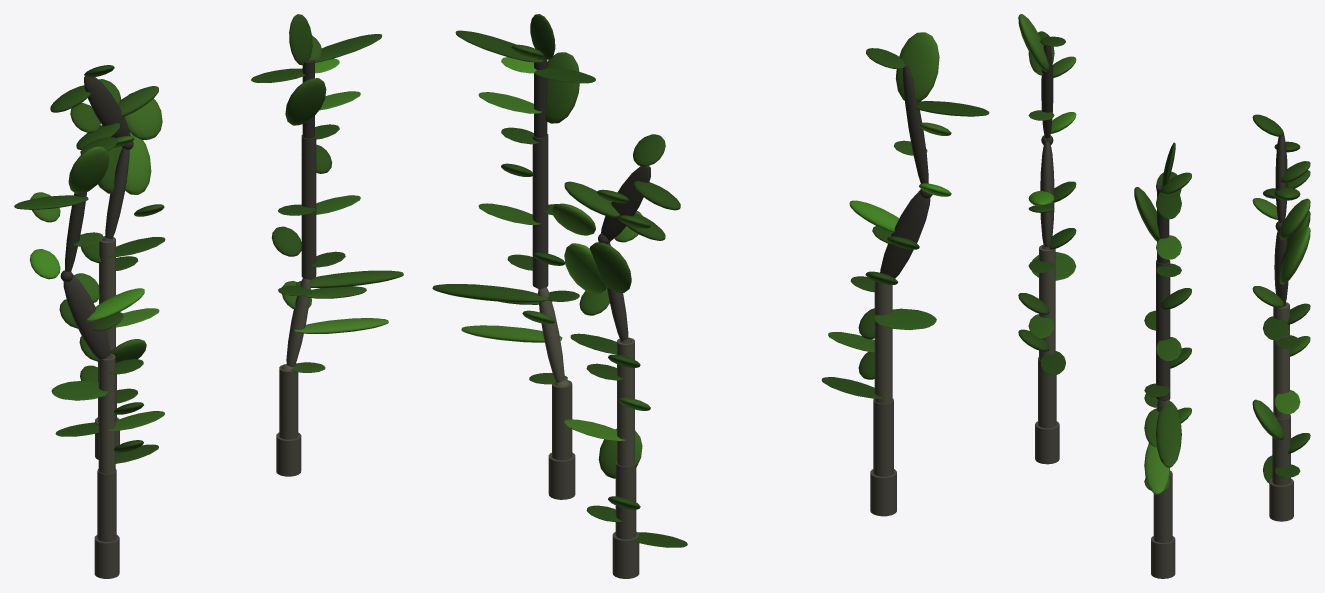
The model's file is CMU3DStalkyBush01.glb.
The picture shows the model from 3 angles, left to right: view 1: azimuth 30°, elevation 25°; view 2: azimuth 150°, elevation 25°; view 3: azimuth 270°, elevation 25°; orthographic projection. The views are drawn at different scales.
Parts seen in each view (by area): view 1: visible stem 2 section 2, visible stem 0 section 1, visible stem 0 section 2, visible stem 2 section 0, visible stem 0 section 0, source leaf patch 18, source leaf patch 12, visible stem 1 section 3, visible stem 1 section 1, source leaf patch 49, source leaf patch 8, visible stem 1 section 2 (+24 smaller); view 2: visible stem 2 section 2, visible stem 0 section 1, source leaf patch 12, visible stem 1 section 1, visible stem 0 section 2, source leaf patch 18, visible stem 0 section 0, visible stem 2 section 0, visible stem 0 section 3, source leaf patch 49, visible stem 1 section 0, source leaf patch 7 (+23 smaller); view 3: visible stem 2 section 2, source leaf patch 49, visible stem 1 section 1, visible stem 0 section 1, visible stem 2 section 0, visible stem 0 section 0, visible stem 0 section 2, rounded root base 1, visible stem 1 section 0, rounded root base 0, rounded root base 2, source leaf patch 52 (+23 smaller).
Boxes of the visible parts, x1=… form: visible stem 2 section 2: x1=301, y1=134, x2=316, y2=278; visible stem 0 section 1: x1=98, y1=353, x2=115, y2=473; visible stem 0 section 2: x1=63, y1=274, x2=110, y2=359; visible stem 2 section 0: x1=279, y1=364, x2=298, y2=439; visible stem 0 section 0: x1=97, y1=469, x2=116, y2=541; source leaf patch 18: x1=285, y1=78, x2=326, y2=125; source leaf patch 12: x1=68, y1=146, x2=109, y2=193; visible stem 1 section 3: x1=84, y1=76, x2=130, y2=137; visible stem 1 section 1: x1=99, y1=236, x2=115, y2=351; source leaf patch 49: x1=296, y1=270, x2=403, y2=287; source leaf patch 8: x1=125, y1=132, x2=151, y2=194; visible stem 1 section 2: x1=105, y1=147, x2=129, y2=238; visible stem 2 section 2: x1=532, y1=134, x2=548, y2=288; visible stem 0 section 1: x1=874, y1=281, x2=892, y2=403; source leaf patch 12: x1=895, y1=32, x2=939, y2=102; visible stem 1 section 1: x1=617, y1=337, x2=634, y2=466; visible stem 0 section 2: x1=880, y1=190, x2=930, y2=278; source leaf patch 18: x1=545, y1=52, x2=579, y2=123; visible stem 0 section 0: x1=873, y1=398, x2=893, y2=476; visible stem 2 section 0: x1=552, y1=380, x2=572, y2=460; visible stem 0 section 3: x1=903, y1=61, x2=928, y2=183; source leaf patch 49: x1=432, y1=284, x2=547, y2=302; visible stem 1 section 0: x1=615, y1=461, x2=636, y2=539; source leaf patch 7: x1=589, y1=242, x2=631, y2=292; visible stem 2 section 2: x1=1156, y1=260, x2=1170, y2=400; source leaf patch 49: x1=1156, y1=401, x2=1181, y2=467; visible stem 1 section 1: x1=1273, y1=302, x2=1289, y2=419; visible stem 0 section 1: x1=1039, y1=244, x2=1055, y2=360; visible stem 2 section 0: x1=1153, y1=470, x2=1172, y2=542; visible stem 0 section 0: x1=1038, y1=357, x2=1056, y2=428; visible stem 0 section 2: x1=1040, y1=142, x2=1054, y2=247; rounded root base 1: x1=1269, y1=478, x2=1293, y2=521; visible stem 1 section 0: x1=1272, y1=414, x2=1290, y2=485; rounded root base 0: x1=1035, y1=421, x2=1059, y2=464; rounded root base 2: x1=1151, y1=536, x2=1175, y2=578; source leaf patch 52: x1=1144, y1=443, x2=1169, y2=494.
Size of the model in its own units: 0.7071 by 0.6679 by 0.4037.
